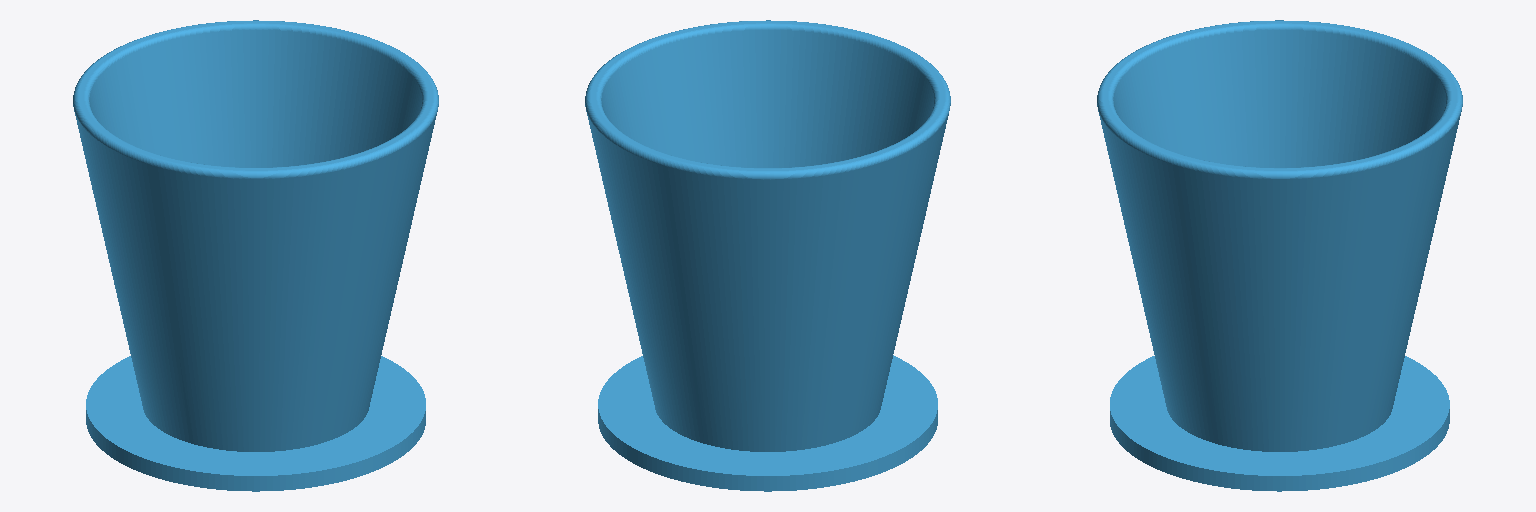
The robot description file, URDF, robot "cup":
<?xml version="1.0" ?>
<robot name = "cup">

  <link name="base">
    <visual>
      <origin rpy="0 0 0" xyz="0 0 0"/>
      <geometry>
        <box size="0.001 0.001 0.001"/>
      </geometry>
    </visual>

    <inertial>
      <origin xyz="0 0 0" rpy="0 0 0"/>
      <mass value="1"/>
      <inertia ixx = "0.0414613" ixy = "0" ixz = "0" iyx = "0" iyy = "0.0956574" iyz = "0" izx = "0" izy = "0" izz = "0.121322"/>
    </inertial>
  </link>

  <joint name="floating_base" type="fixed">
    <origin rpy="0 0 0" xyz="0 0 0"/>
    <parent link="base"/>
    <child link="cup"/>
  </joint>

  <link name="cup">
    <inertial>
       <origin xyz="0 0 0" rpy="0 0 0"/>
       <mass value = "0.05"/>
       <inertia ixx = "0.1" ixy = "0" ixz = "0" iyx = "0" iyy = "0.1" iyz = "0" izx = "0" izy = "0" izz = "0.1"/>
    </inertial>
    <visual>
      <origin rpy="1.57 0 0" xyz="0 0 0"/>
      <geometry>
           <mesh filename="../meshes/cup.stl" scale="0.001 0.001 0.001"/>
      </geometry>
    </visual>

    <collision>
      <geometry>
	 	 <mesh filename="../meshes/cup.obj" scale="0.001 0.001 0.001"/>
      </geometry>
      <origin rpy="1.57 0 0" xyz="0 0 0"/>
    </collision>
  </link>


</robot>

--- Facts derived from the render (not from the file) ---
3 views of the same robot in one strip: view 1: azimuth 30°, elevation 25°; view 2: azimuth 150°, elevation 25°; view 3: azimuth 270°, elevation 25° (orthographic).
Model cup with 2 links and 1 joints (1 fixed), rooted at base, posed every joint at zero.
Links seen in each view (by area): view 1: cup; view 2: cup; view 3: cup.
Link boxes in pixels (x1,y1,x2,y2): cup: (73,20,438,491); cup: (585,20,950,491); cup: (1097,20,1462,491).
Size in the robot's own frame: 0.1291 by 0.1291 by 0.1261 metres.
Meshes: 1 distinct files referenced, 1 mesh visuals loaded (1 binary STL).